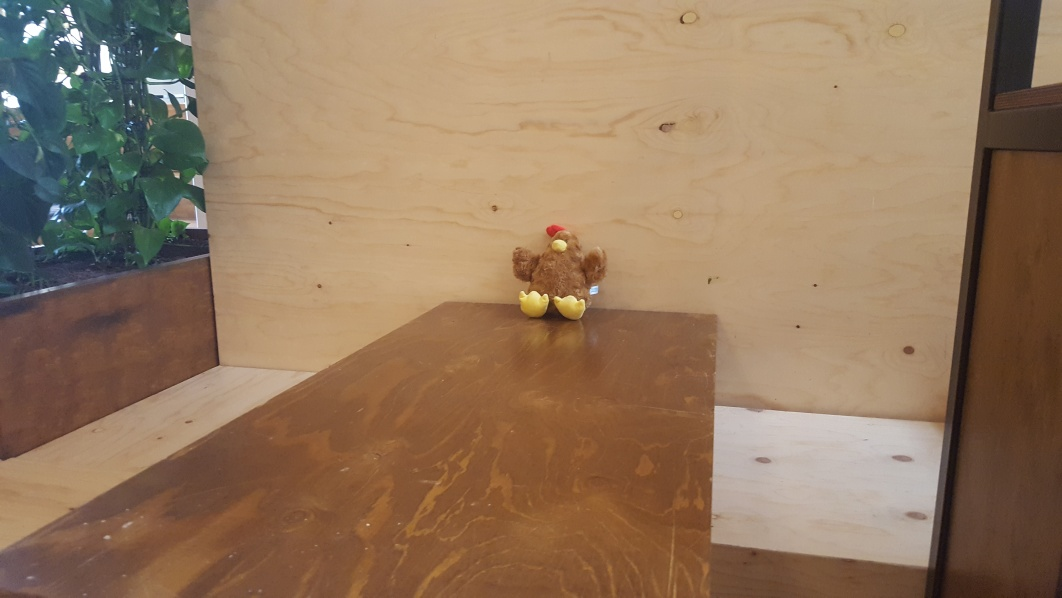chicken: (506, 222, 613, 321)
